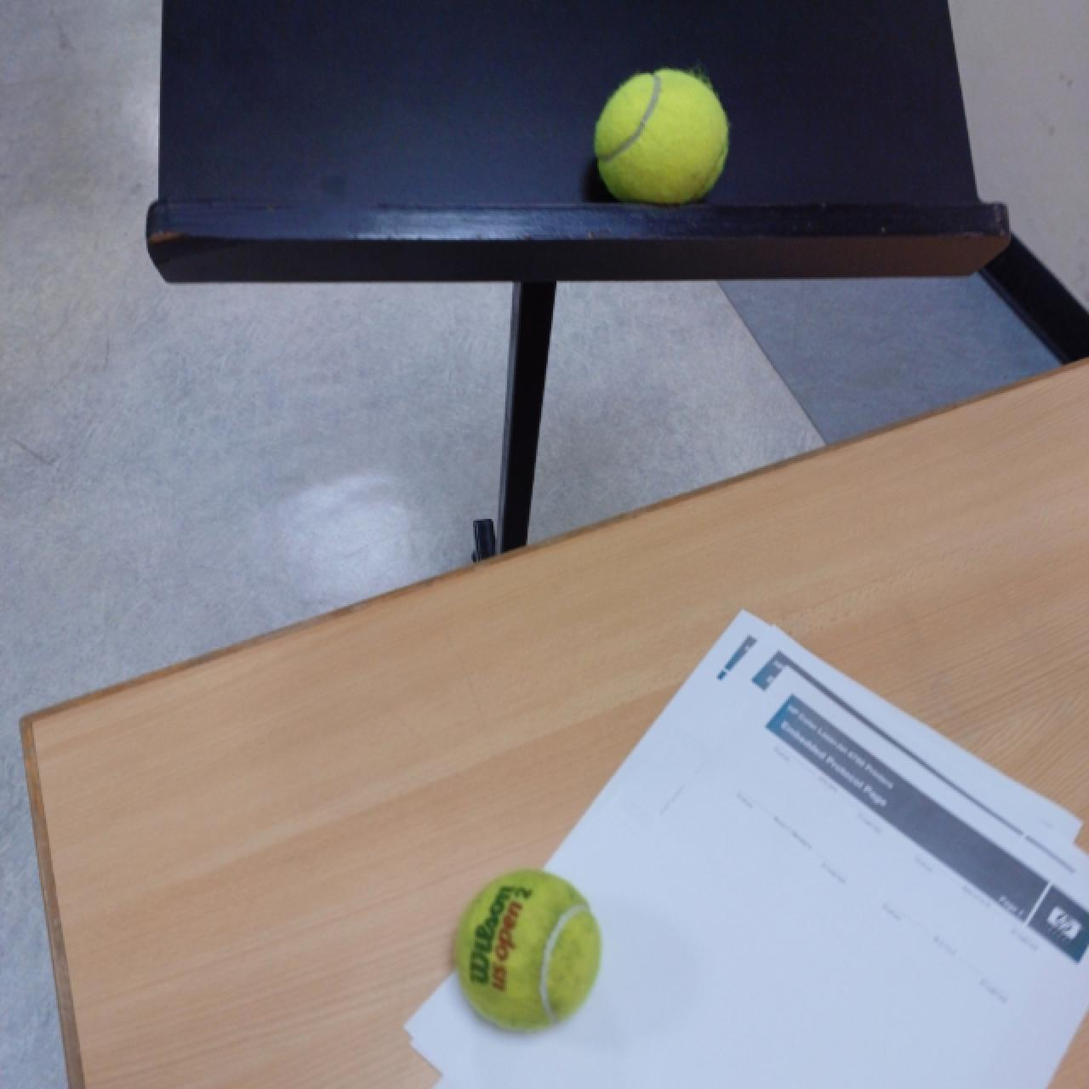tennis-ball: (453, 866, 606, 1032), (591, 67, 735, 206)
